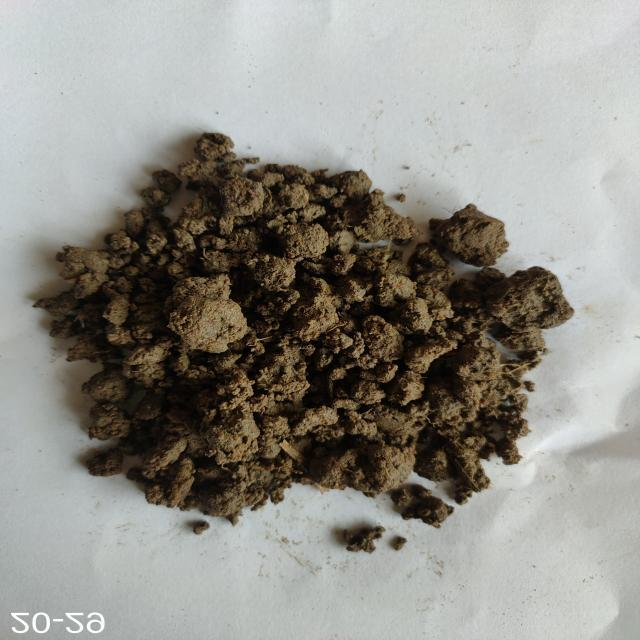soil: (164, 238, 458, 452)
